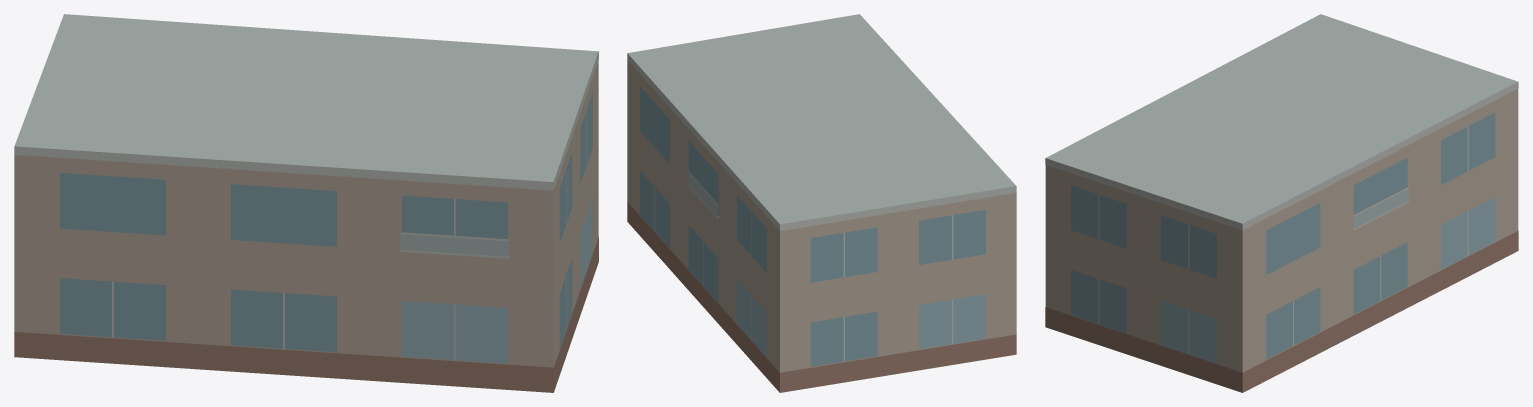
The model's file is survey-upis-32851930.glb.
The picture shows the model from 3 angles, left to right: view 1: azimuth 30°, elevation 25°; view 2: azimuth 150°, elevation 25°; view 3: azimuth 270°, elevation 25°; orthographic projection. The views are drawn at different scales.
Visible parts, largest first — view 1: survey-upis-32851930.tmp; view 2: survey-upis-32851930.tmp; view 3: survey-upis-32851930.tmp.
Boxes of the visible parts, x1,y1,x2,y2 form: survey-upis-32851930.tmp: (14, 14, 598, 392); survey-upis-32851930.tmp: (627, 14, 1016, 392); survey-upis-32851930.tmp: (1045, 14, 1518, 392).
Bounding box in the file's own units: 16.23 × 6.1 × 15.47.
